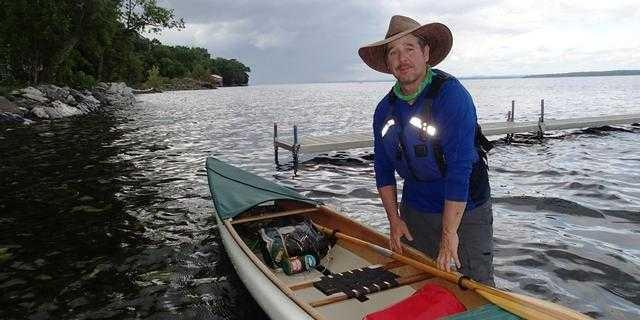kayak: (205, 153, 618, 319)
